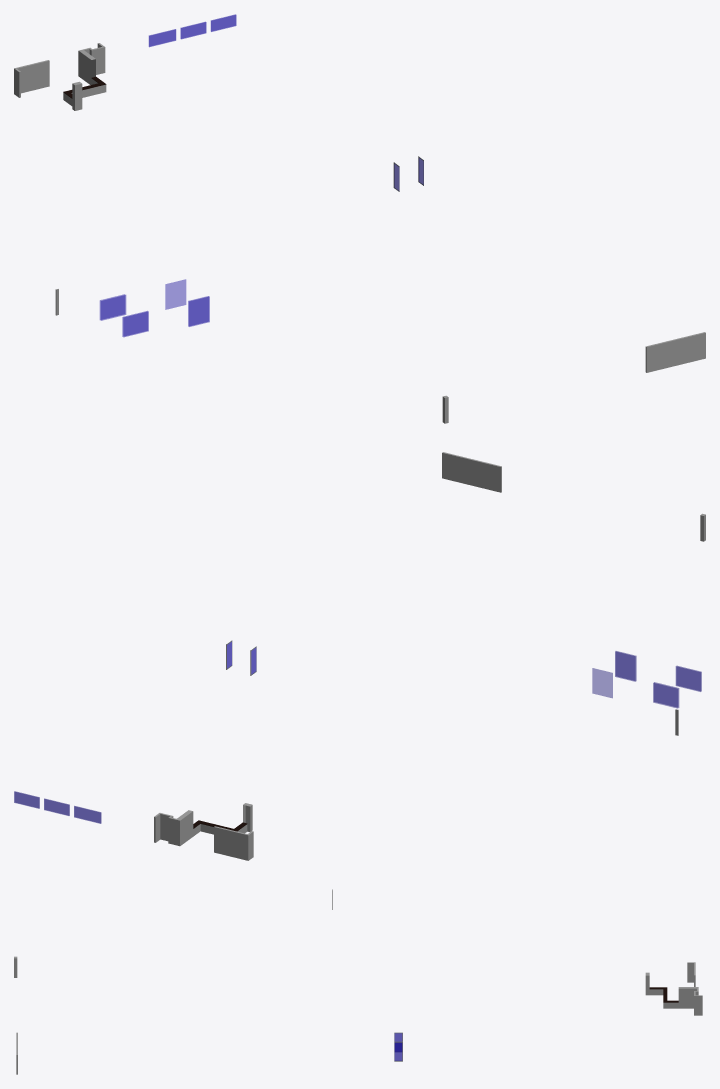
Rendered from vrata_levo2.obj.
3 views of the same model, one above another, from view 1: azimuth 30°, elevation 25°; view 2: azimuth 150°, elevation 25°; view 3: azimuth 270°, elevation 25° (orthographic). The views are drawn at different scales.
Visible parts, largest first — view 1: Cube; view 2: Cube; view 3: Cube.
Part boxes in pixels (left/top/right/bottom): Cube: left=14, top=14, right=705, bottom=423; Cube: left=14, top=452, right=705, bottom=860; Cube: left=14, top=889, right=702, bottom=1074.
Bounding box in the file's own units: 24.3 × 1.35 × 42.95.
